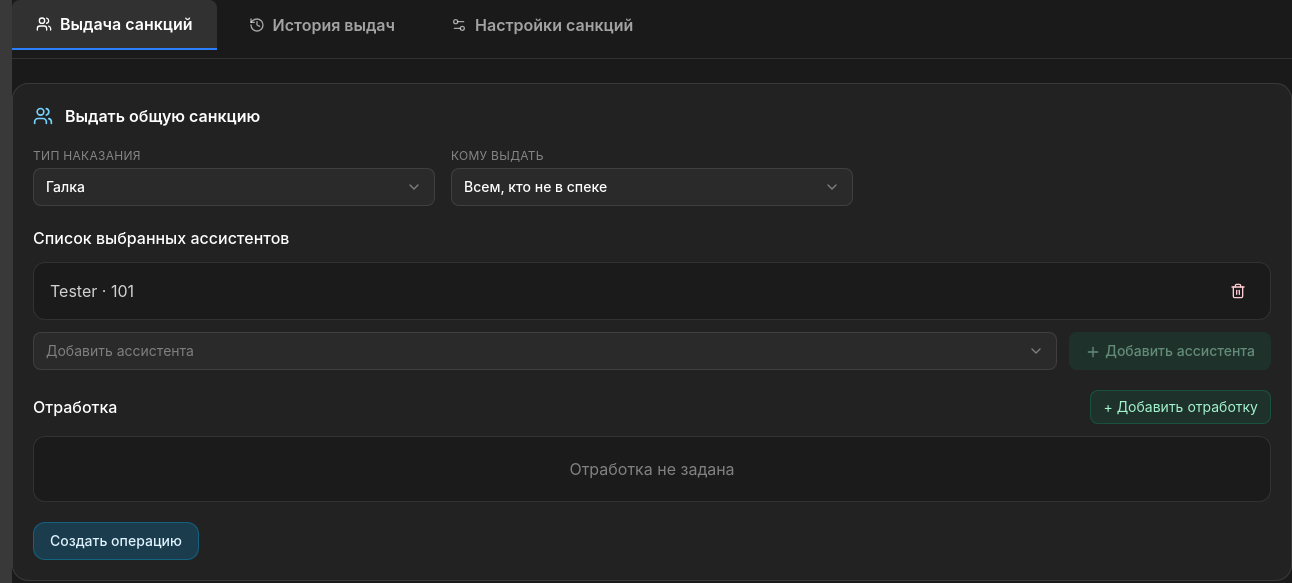
Test: SanctionsQueueManagement › fetches and renders batch workoff preview with leave-aware days
The width and height of the screenshot is (1292, 583).
Expected: the heading "Выдать общую санкцию" is shown, [65, 104, 260, 128]
Click the button "+ Добавить отработку" at [1181, 407], box [1090, 390, 1271, 424]
(page scrolled)
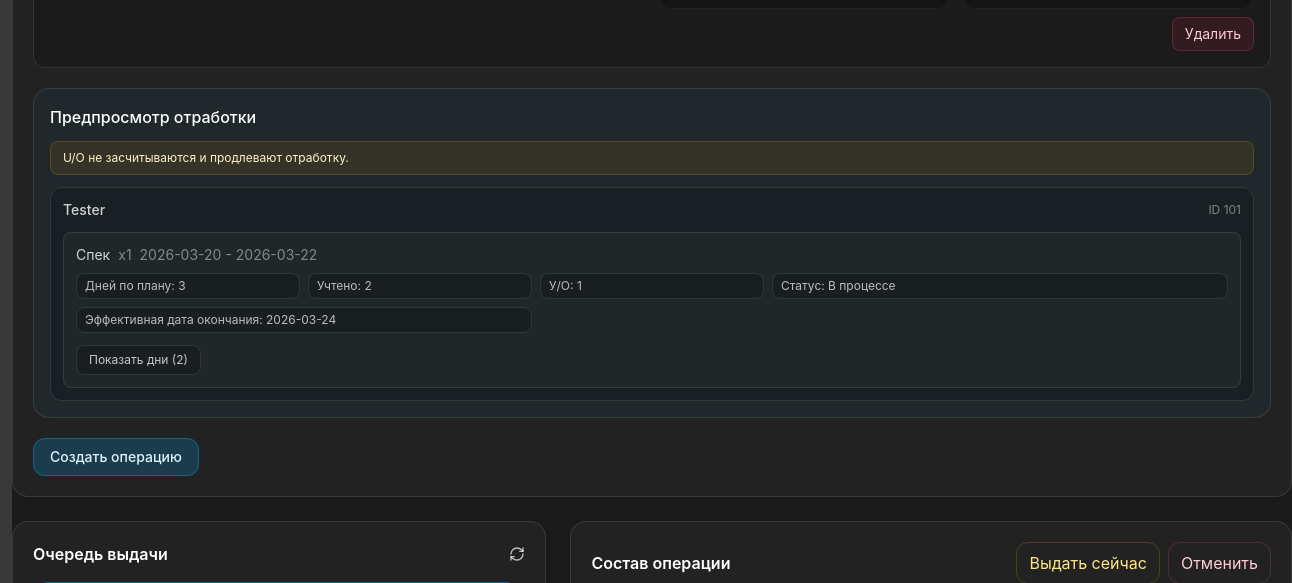
Now the text "Предпросмотр отработки" is shown, box [50, 105, 256, 129]
Now the text "U/O не засчитываются и продлевают отработку." is shown, box [50, 141, 1254, 175]
Now the text "Дней по плану: 3" is shown, box [76, 273, 300, 299]
Click the button "Показать дни (2)" at [138, 360], box [76, 345, 201, 375]
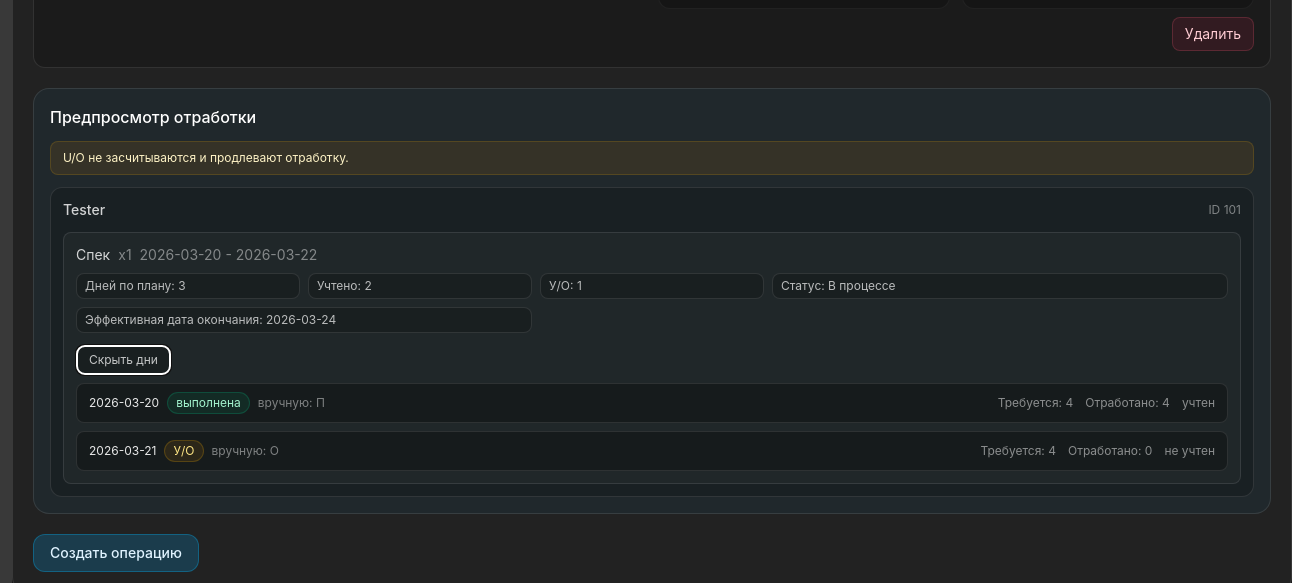
Now the button "Скрыть дни" is shown, box [76, 345, 171, 375]
Now the text "вручную: О" is shown, box [212, 443, 279, 459]
